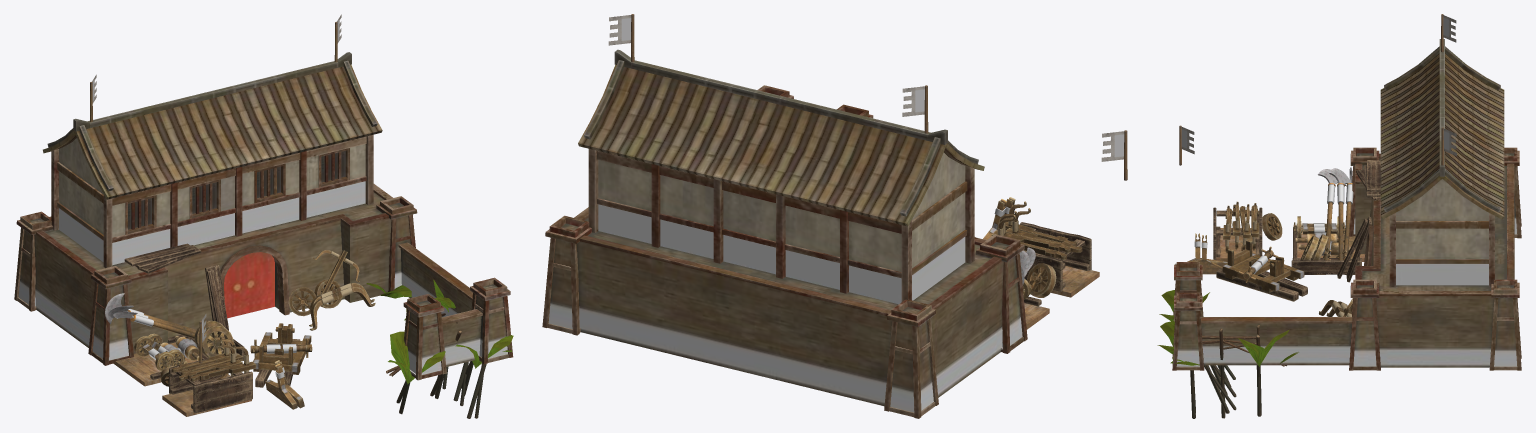
Rendered from 45-machineworkshop.glb.
The picture shows the model from 3 angles, left to right: view 1: azimuth 30°, elevation 25°; view 2: azimuth 150°, elevation 25°; view 3: azimuth 270°, elevation 25°; orthographic projection. The views are drawn at different scales.
Size of the model in its own units: 10.29 by 8.94 by 10.31.
Materials: 8 (8 with a texture image).
